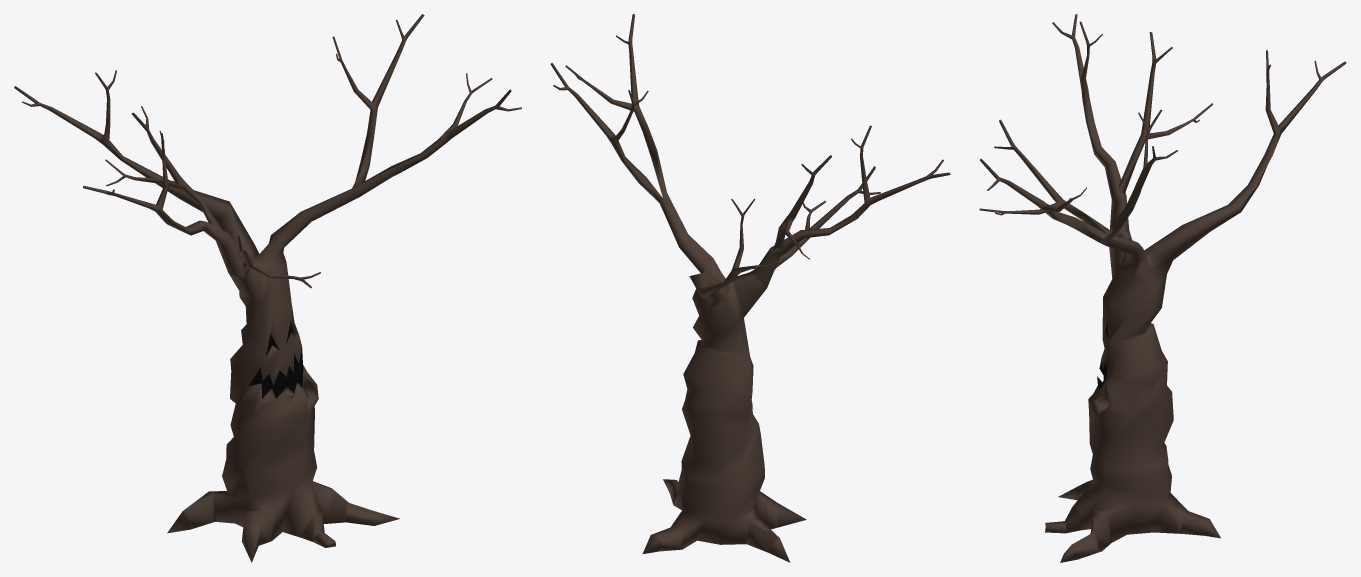
The model's file is SpookyTree10.glb.
3 renders of one model, left to right at view 1: azimuth 30°, elevation 25°; view 2: azimuth 150°, elevation 25°; view 3: azimuth 270°, elevation 25°, orthographic. The views are drawn at different scales.
Visible parts, largest first — view 1: SpookyTree10; view 2: SpookyTree10; view 3: SpookyTree10.
Boxes of the visible parts, x1=… form: SpookyTree10: x1=14, y1=14, x2=521, y2=562; SpookyTree10: x1=550, y1=14, x2=950, y2=562; SpookyTree10: x1=979, y1=14, x2=1346, y2=562.
Size of what is drawn, in the model's own units: 6.06 by 6.56 by 4.77.
2 materials, 2 textured.
